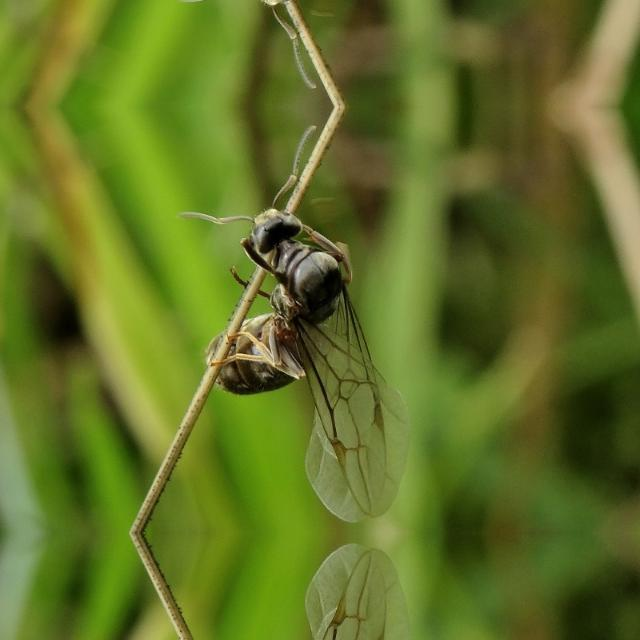Lasius: (222, 188, 426, 494), (222, 570, 424, 640)
